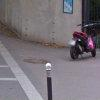Motorcycle: (67, 21, 100, 67)
